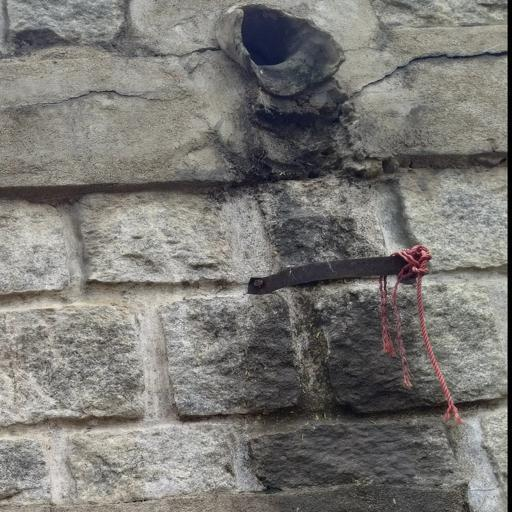stain: (231, 26, 490, 512)
